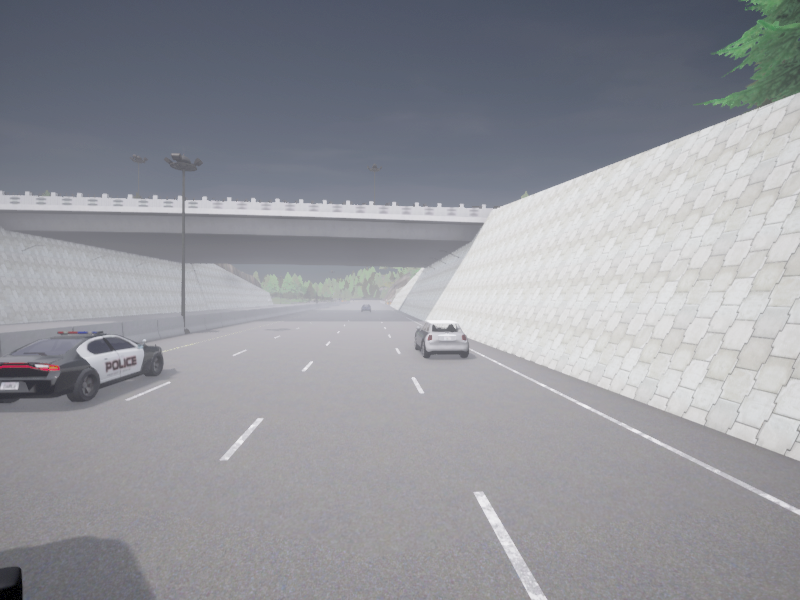vehicle: (0, 331, 163, 402), (414, 320, 468, 357), (0, 566, 22, 599), (361, 304, 370, 311)
